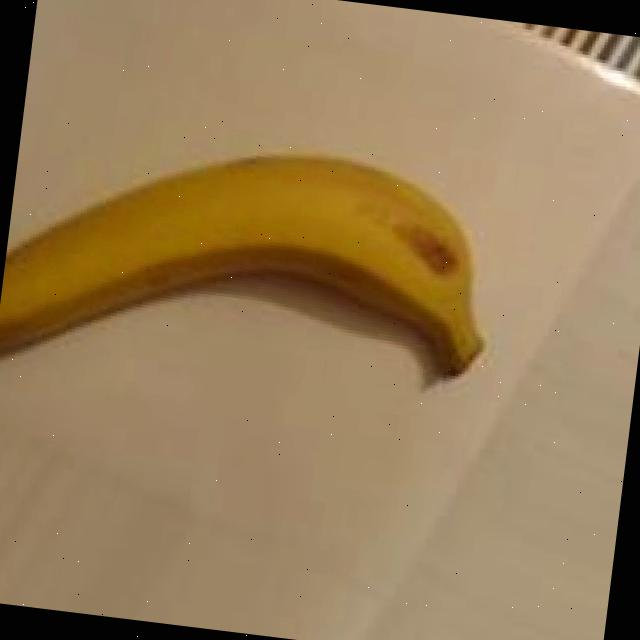banana: (0, 87, 530, 465)
